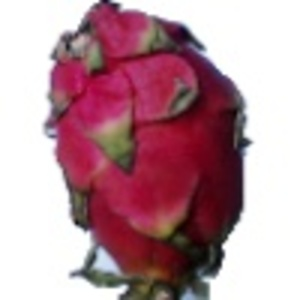pitaia: (43, 1, 253, 300)
